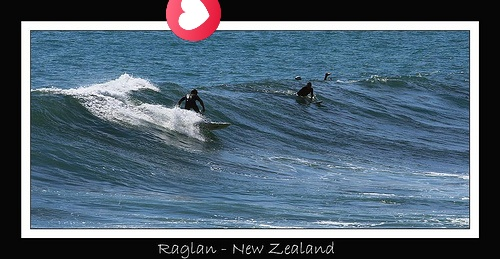love: (166, 0, 221, 41)
